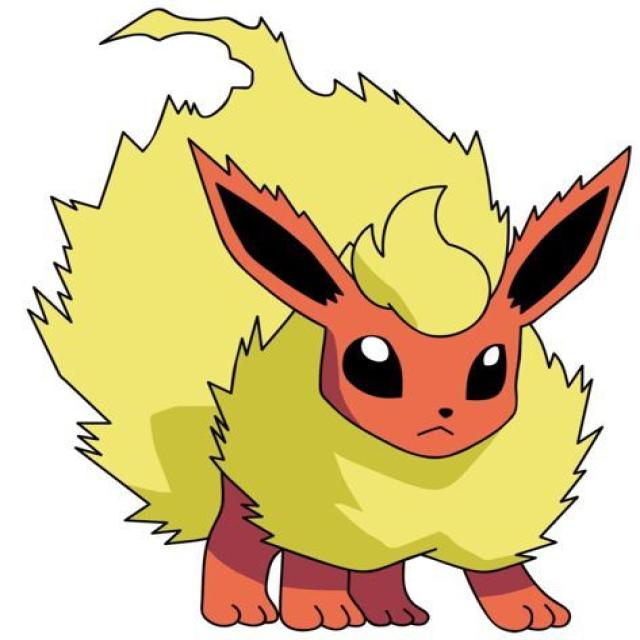Flareon: (154, 122, 606, 629)
